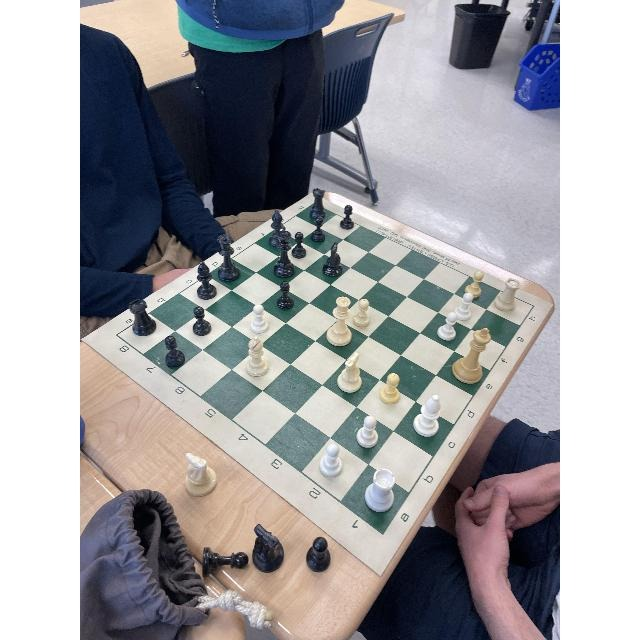black-pawn: (193, 261, 218, 301), (310, 187, 328, 239), (276, 226, 294, 278), (220, 235, 238, 283), (325, 234, 344, 277), (164, 336, 186, 372), (191, 307, 217, 337), (279, 274, 295, 309), (341, 203, 357, 233), (293, 226, 307, 260)
black-rook: (131, 286, 161, 329)
white-bishop: (367, 427, 398, 511), (414, 373, 443, 435)
white-knight: (309, 433, 355, 490)
white-pawn: (396, 287, 427, 333), (351, 286, 376, 336), (341, 345, 362, 391), (440, 288, 457, 343)
